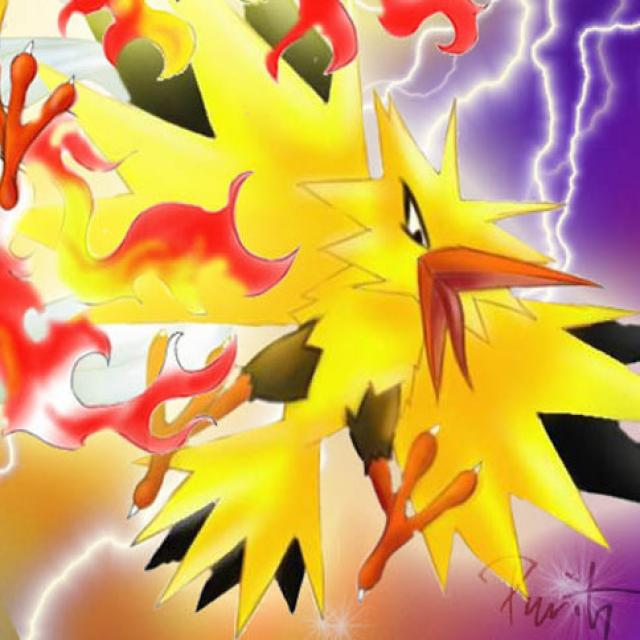Zapdos: (128, 103, 598, 590)
